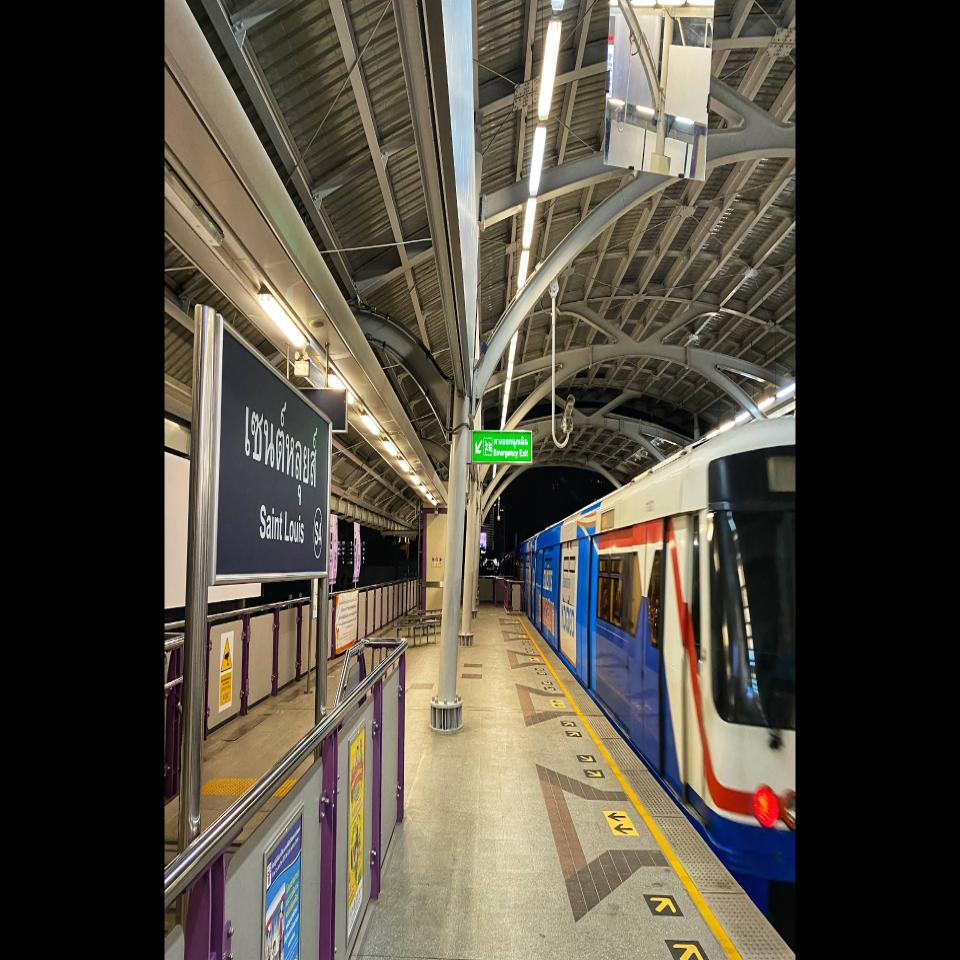Saint Louis: (208, 314, 332, 587)
